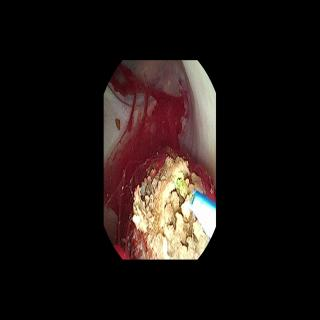stone: (133, 157, 208, 257)
tissue: (106, 65, 214, 238)
